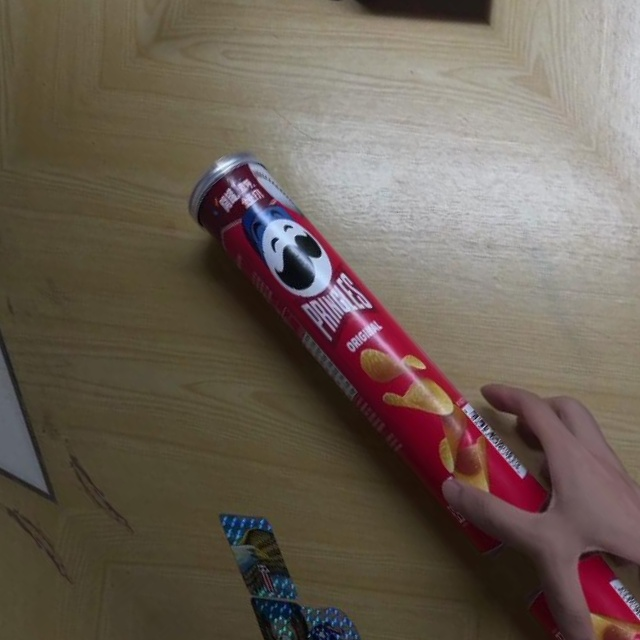Pringles: (171, 132, 564, 573)
